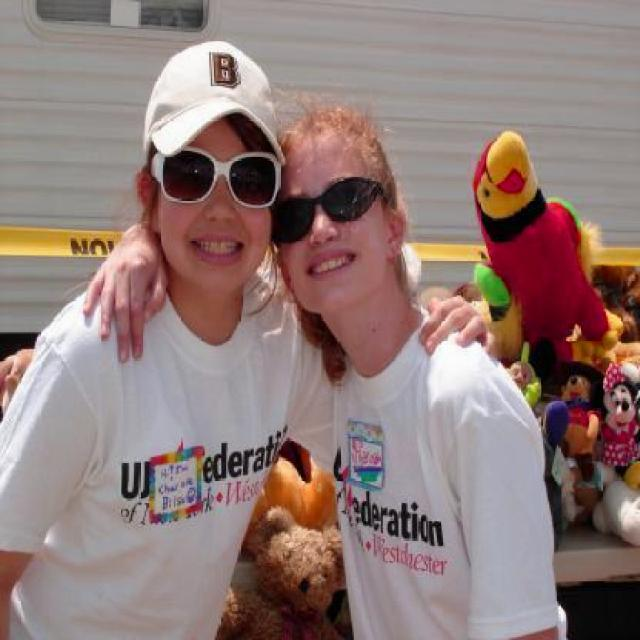face_nomask: (156, 145, 272, 273), (275, 181, 370, 282)
glasses: (144, 143, 282, 214), (266, 176, 386, 249)
hand_noglove: (84, 235, 164, 356), (418, 293, 492, 365)
head_nohelmet: (141, 47, 284, 155), (270, 100, 376, 178)
person: (0, 77, 318, 640), (274, 118, 560, 640)
